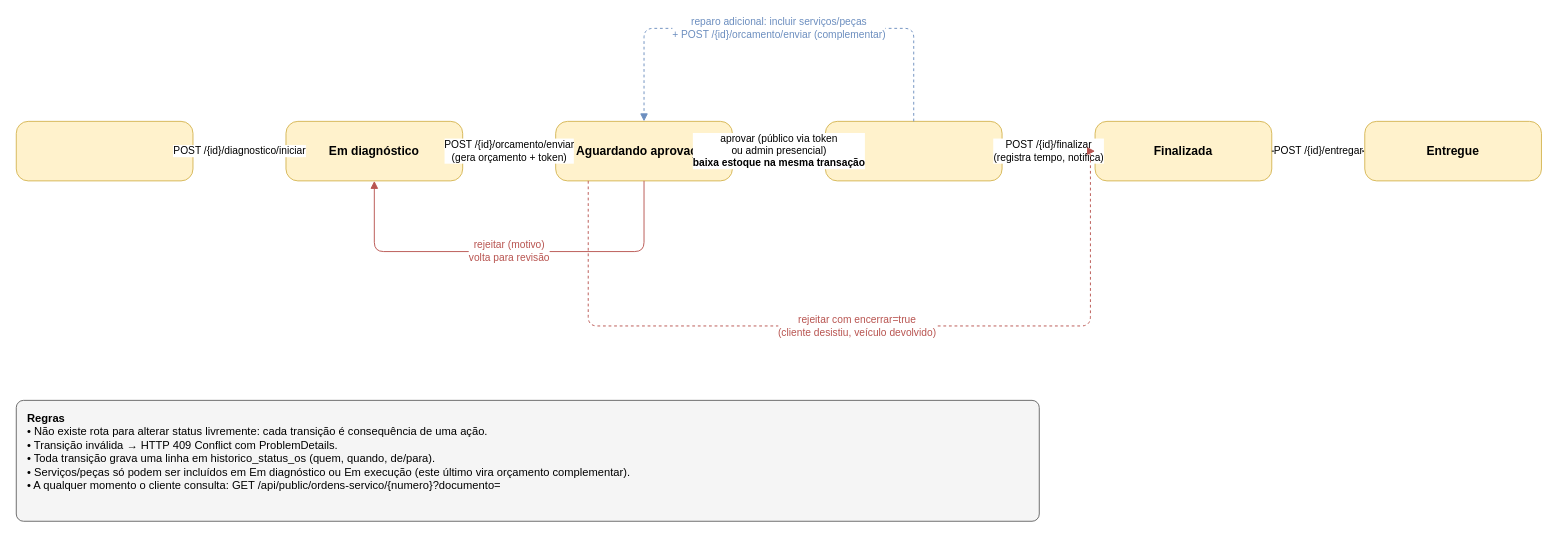
Some shapes in this 1558 by 538 pixel diagram are drawn without their labels. Here are the shapes that lost their labels. From the top down, the centre of each, then its label:
At (104,150): "Recebida".
At (913,150): "Em execução".
